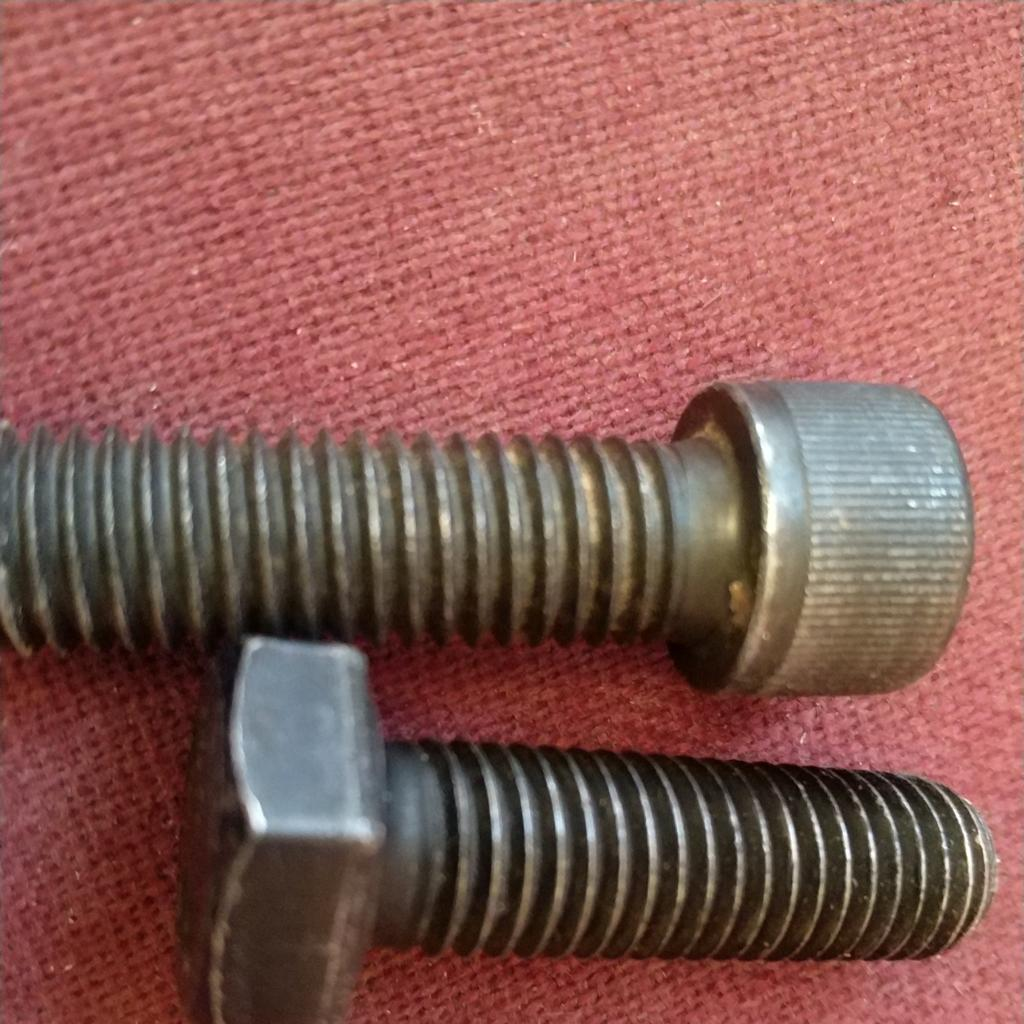screwtype1black: (1, 364, 978, 704)
screwtype2black: (176, 633, 997, 1024)
